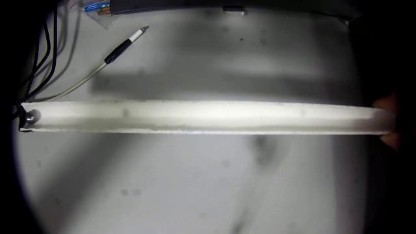gangzhu: (22, 107, 37, 126)
